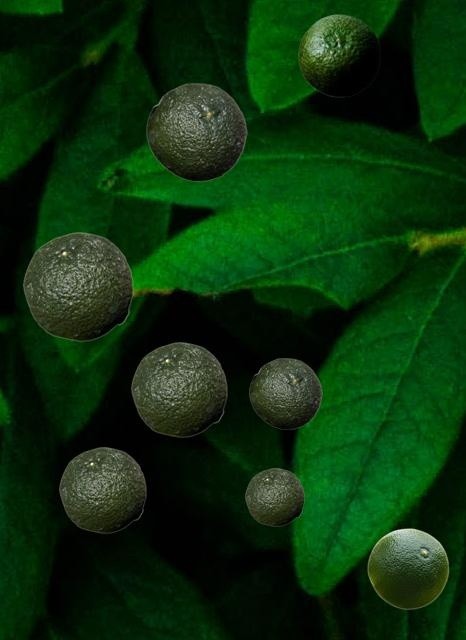calamansi: (23, 232, 132, 340), (146, 83, 246, 180), (131, 342, 226, 436), (59, 447, 145, 532), (298, 14, 379, 96), (367, 528, 448, 608), (249, 358, 321, 428), (245, 468, 303, 525)
